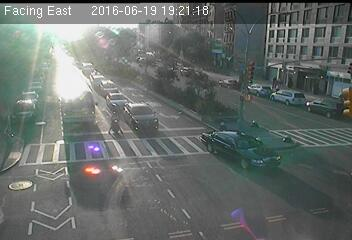neg: (102, 104, 127, 138)
pos: (269, 73, 280, 88)
